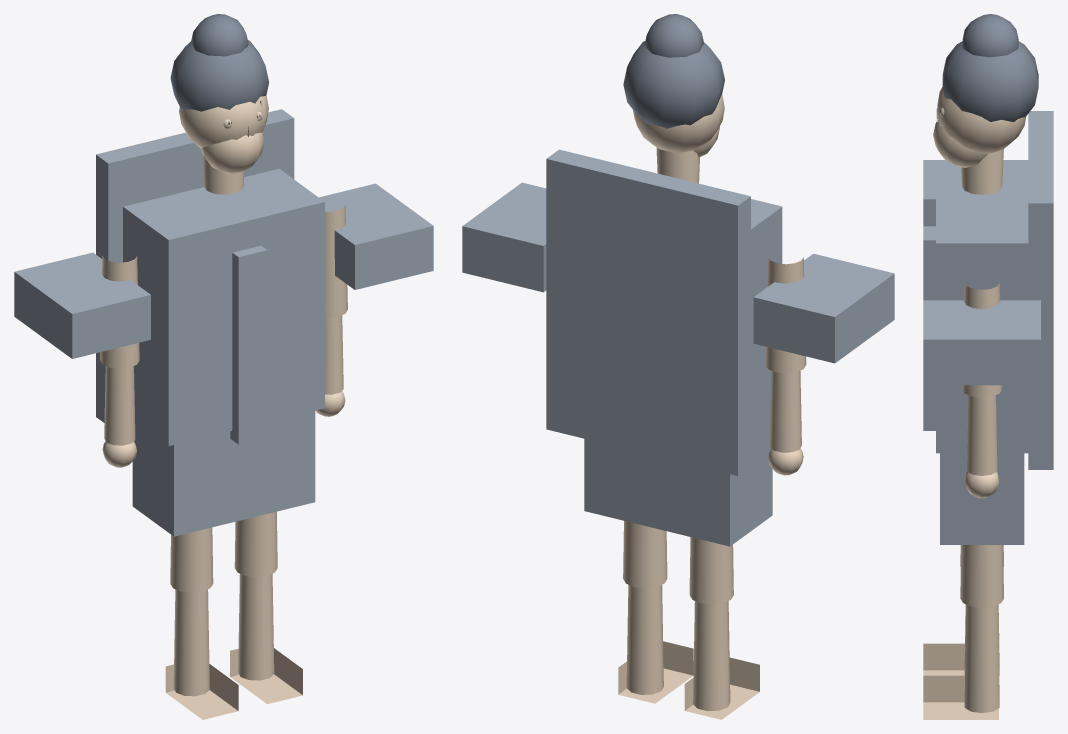
File: body.glb
The picture shows the model from 3 angles, left to right: view 1: azimuth 30°, elevation 25°; view 2: azimuth 150°, elevation 25°; view 3: azimuth 270°, elevation 25°; orthographic projection. The views are drawn at different scales.
Parts seen in each view (by area): view 1: Cloth, Skin, Hair; view 2: Cloth, Skin, Hair; view 3: Cloth, Skin, Hair.
Boxes of the visible parts, x1,y1,x2,y2 form: Cloth: (14, 109, 433, 536); Skin: (100, 96, 347, 719); Hair: (170, 14, 268, 111); Cloth: (462, 149, 894, 546); Skin: (618, 94, 806, 719); Hair: (623, 14, 724, 128); Cloth: (923, 111, 1053, 544); Skin: (923, 87, 1025, 719); Hair: (942, 14, 1038, 122).
Bounding box in the file's own units: 1.01 × 1.78 × 0.31.
